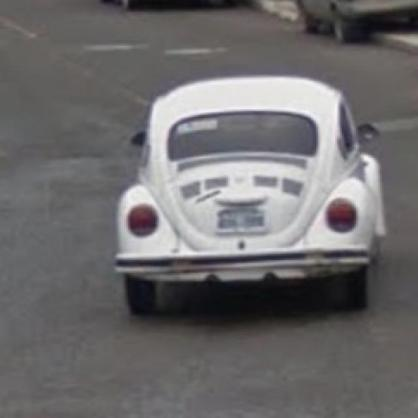car: (112, 71, 390, 323)
